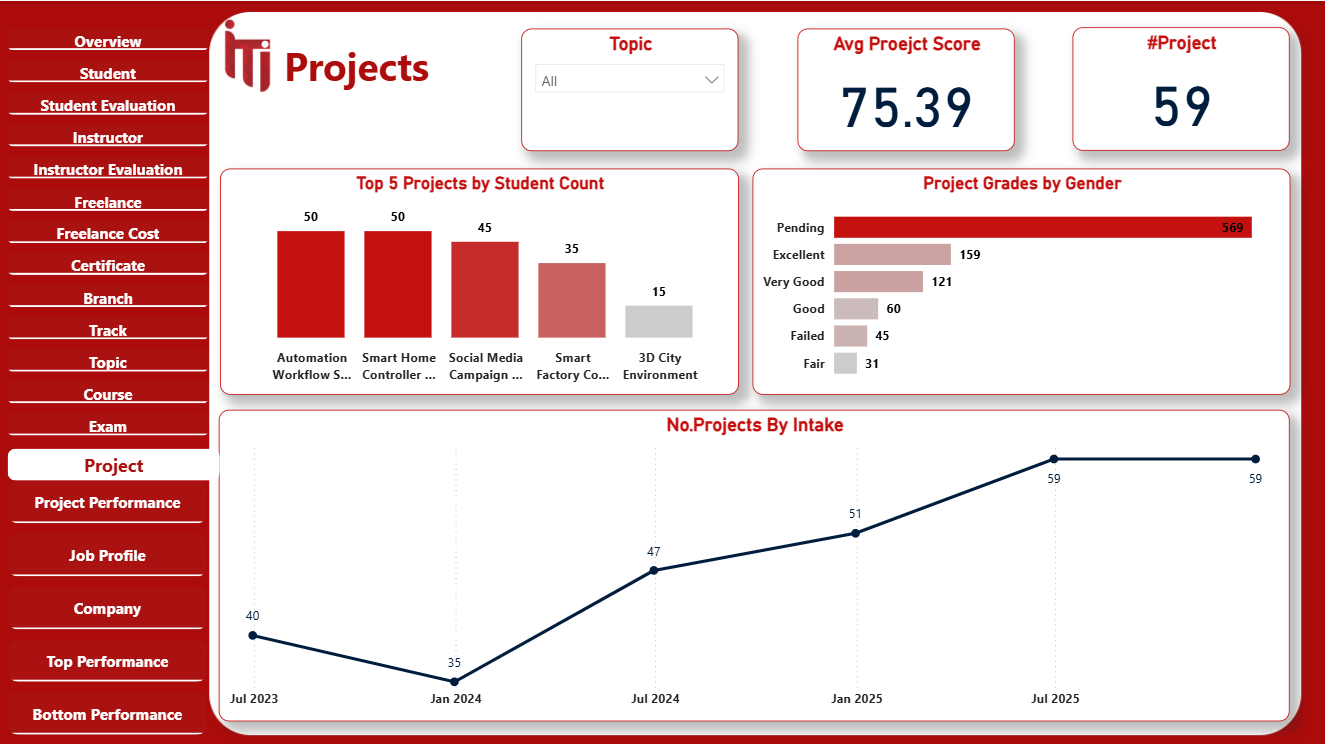

This screenshot's page, from the dashboard's own definition file:
{"tool":"powerbi","page":{"name":"Project","canvas":[1280,720],"ordinal":13},"visuals":[{"type":"card","title":"#Project","fields":{"Values":["Count(Fact_Student_Performance.pro_id)"]},"box":[1035.1,25.5,209.9,118.9],"z":0},{"type":"columnChart","title":"Top 5 Projects by Student Count","fields":{"Y":["Count(Fact_Student_Performance.st_id)"],"Category":["vw_Dim_Project.project_name"]},"box":[212.4,161.4,501.2,218.4],"z":1000},{"type":"clusteredBarChart","title":"Project Grades by Gender","fields":{"Category":["vw_Dim_Student.Grade_Project"],"Y":["CountNonNull(vw_Dim_Student.Grade_Project)"]},"box":[725.7,161.4,519.4,218.4],"z":2000},{"type":"card","title":"Avg Proejct Score","fields":{"Values":["Avg(Fact_Student_Performance.Project Score)"]},"box":[769.4,26.1,209.9,118],"z":3000},{"type":"lineChart","title":"No.Projects By Intake","fields":{"Y":["Count(Fact_Student_Performance.pro_id)"],"Category":["Dim_Intake.End_date.Variation.Date Hierarchy.Year","Dim_Intake.End_date.Variation.Date Hierarchy.Quarter","Dim_Intake.End_date.Variation.Date Hierarchy.Month","Dim_Intake.End_date.Variation.Date Hierarchy.Day"]},"box":[211.1,394.4,1033.9,300.9],"z":4000},{"type":"textbox","box":[269,32.9,209.9,60.4],"z":5000},{"type":"slicer","title":"Topic","fields":{"Values":["vw_Dim_Topic.Topic_Name"]},"box":[503.6,26.1,209.9,118],"z":6000},{"type":"pageNavigator","box":[6.9,26.1,194.9,393.8],"z":7000},{"type":"pageNavigator","box":[6.9,432.2,205.8,31.6],"z":8000},{"type":"pageNavigator","box":[6.9,463.8,193.5,247],"z":9000},{"type":"image","box":[196.2,4.1,86.4,89.2],"z":10000}]}

Visuals, with their boxes in screenshot pixels (x1, y1, x2, y2), scaled from the page's 1280x720 canvas onto the 1325x744 screenshot:
"#Project" card: box(1071, 26, 1289, 149)
"Top 5 Projects by Student Count" columnChart: box(220, 167, 739, 392)
"Project Grades by Gender" clusteredBarChart: box(751, 167, 1289, 392)
"Avg Proejct Score" card: box(796, 27, 1014, 149)
"No.Projects By Intake" lineChart: box(219, 408, 1289, 718)
textbox: box(278, 34, 496, 96)
"Topic" slicer: box(521, 27, 739, 149)
pageNavigator: box(7, 27, 209, 434)
pageNavigator: box(7, 447, 220, 479)
pageNavigator: box(7, 479, 207, 734)
image: box(203, 4, 293, 96)
